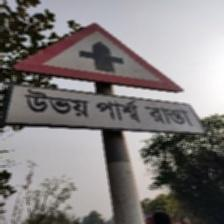Crossroad: (3, 21, 201, 135)
